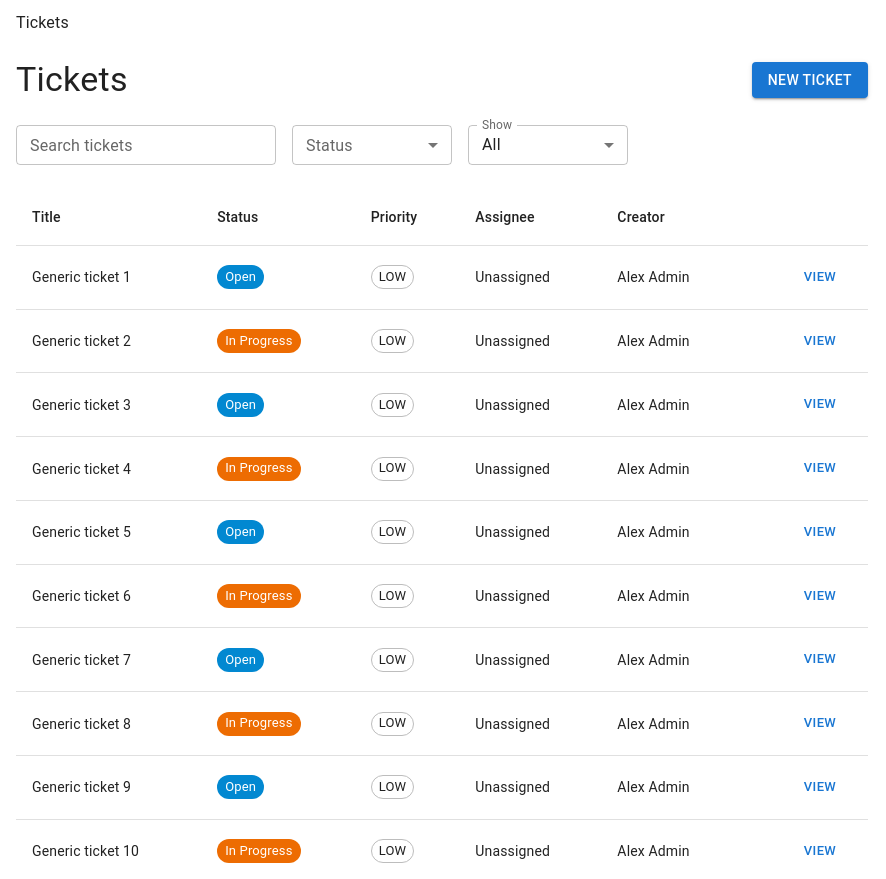
Test case: Search and filter tickets › shows a distinct 'no results' state when a search/filter matches nothing (FR-015)
The width and height of the screenshot is (886, 879).
expect the text "Generic ticket 1" is shown: met, box top-left (16, 246), bottom-right (201, 309)
Step 1. Type "no such ticket exists" into the field labelled "Search tickets" → coordinates (146, 145), box top-left (16, 125), bottom-right (276, 165)
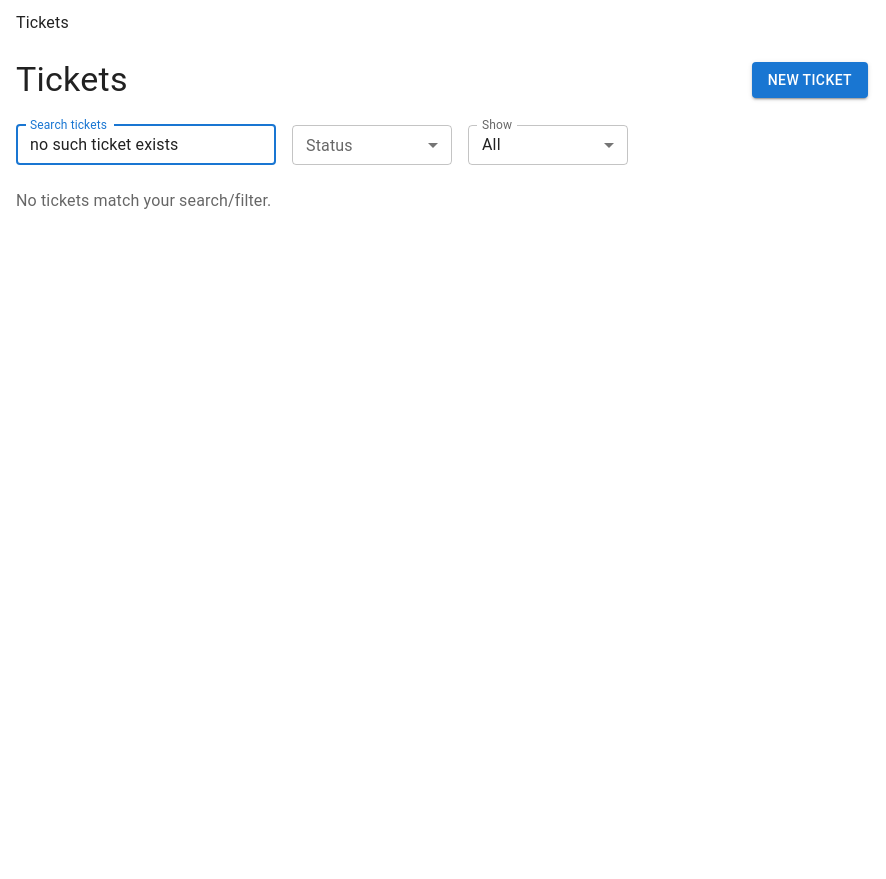
expect the text "No tickets match your search/filter." is shown: met, box top-left (16, 191), bottom-right (272, 210)
